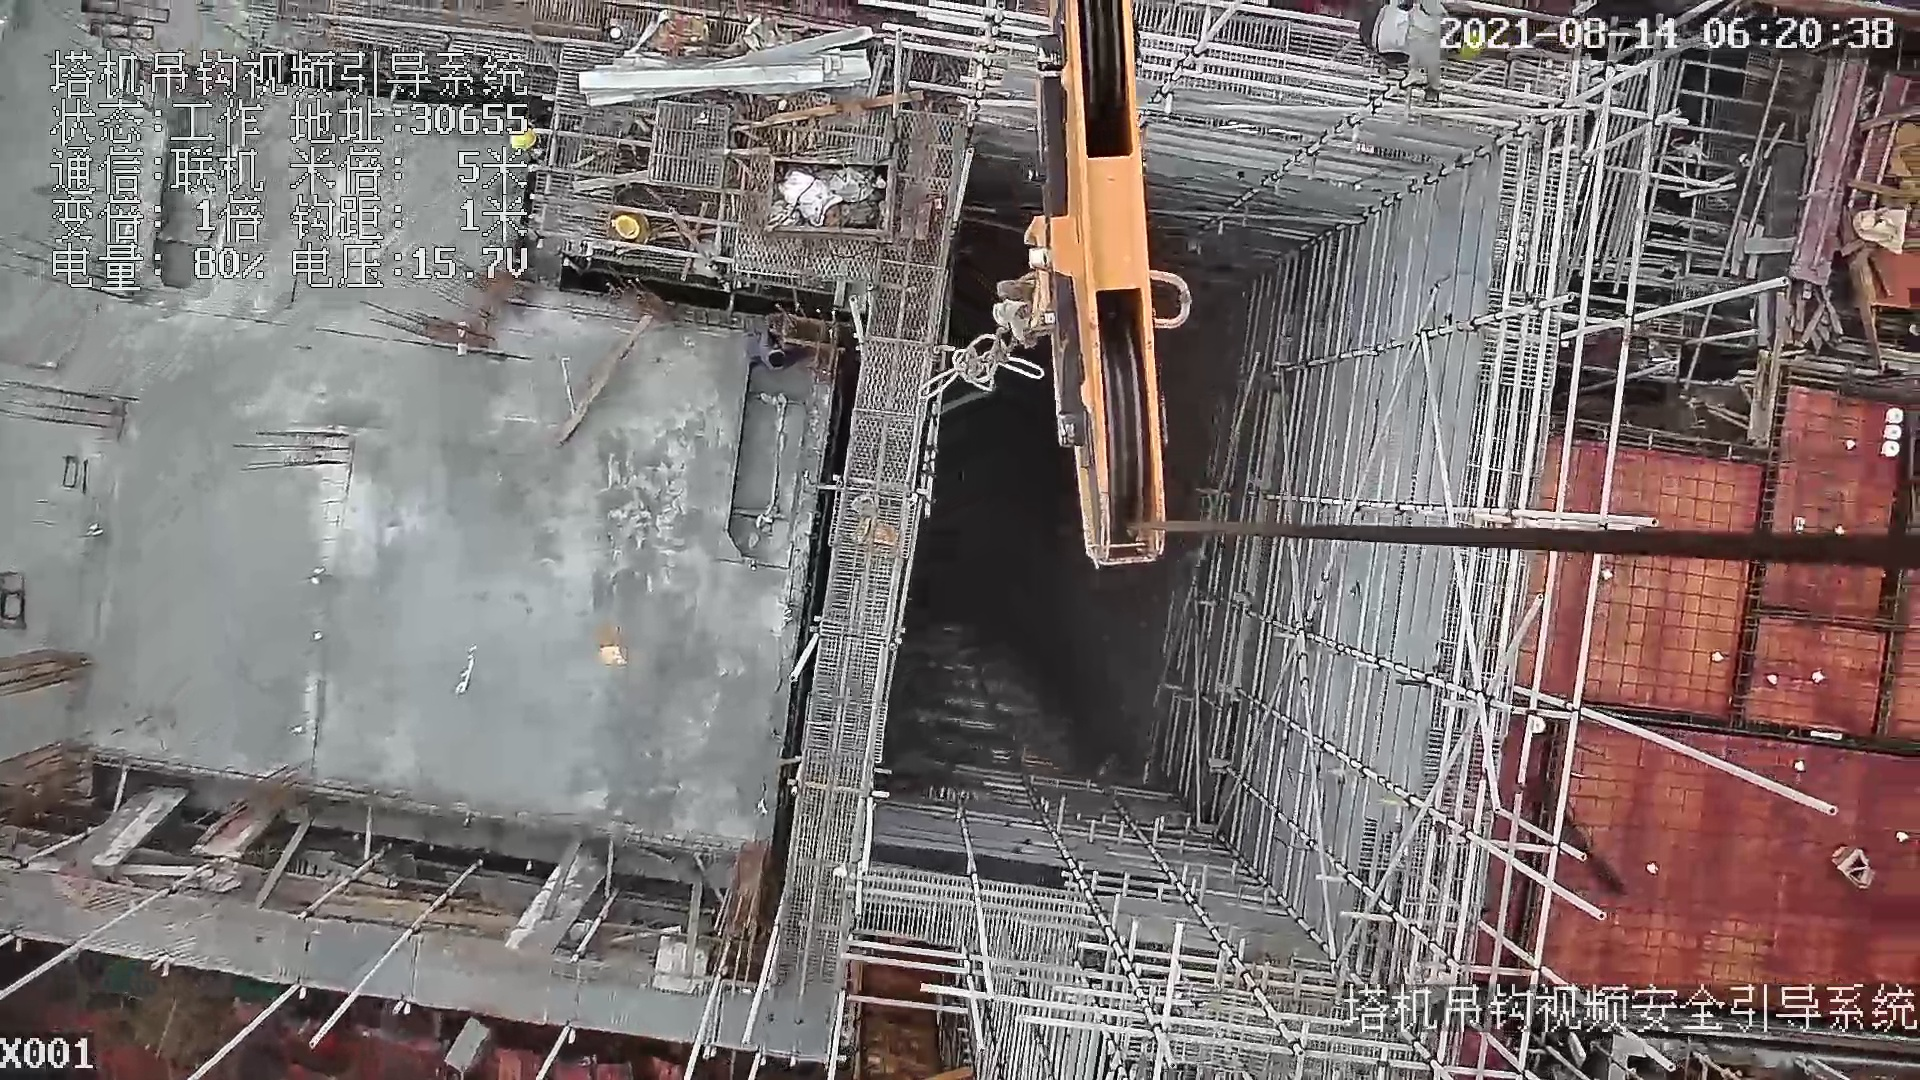hook: (965, 1, 1182, 571)
